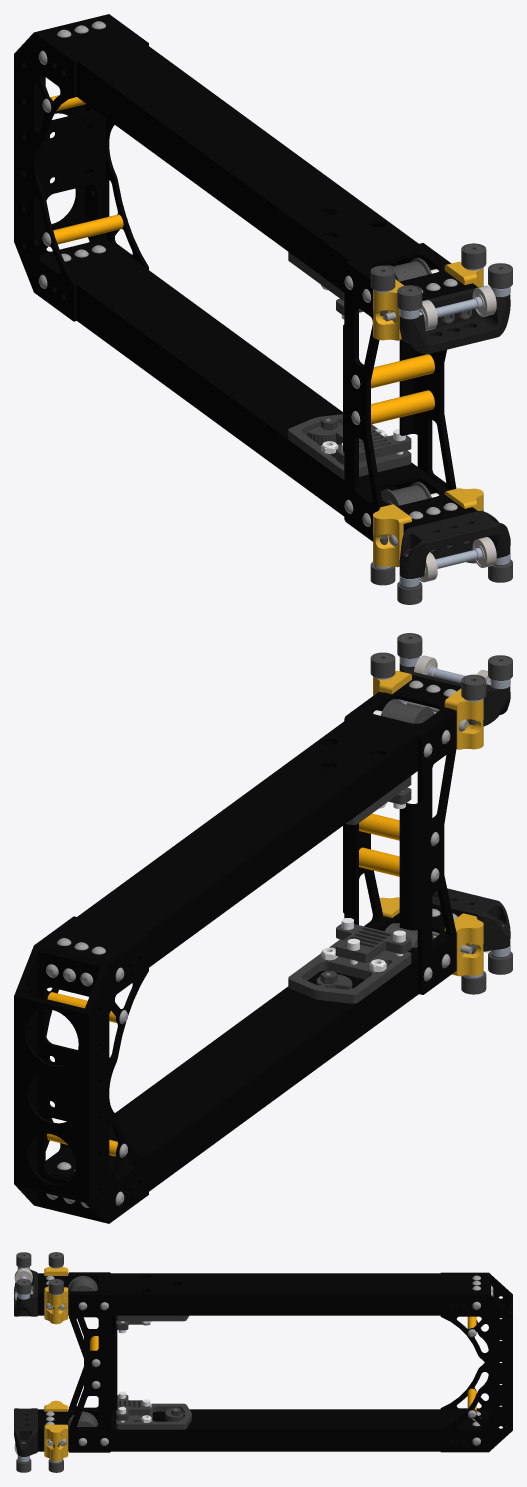
3 renders of one model, top to bottom at view 1: azimuth 30°, elevation 25°; view 2: azimuth 150°, elevation 25°; view 3: azimuth 270°, elevation 25°, orthographic. The views are drawn at different scales.
Parts seen in each view (by area): view 1: 5409-26-P-42003-MOVING-STAGE-TUBE-revB v5:2, 5409-26-P-42003-MOVING-STAGE-TUBE-revB v5:1, 5409-26-P-42001-END-EFFECTOR-PLATE v47:2, Elevator Bearing Block Body REV4(All Parts, Long Spacers) (3 (×2), 5409-26-P-42002-END-EFFECTOR-BAR v37:1, 5409-26-P-42006-CENTER-PLATE v51:2, 5409-26-P-42006-CENTER-PLATE v51:1, 5409-26-P-42007-WCP-BEARING-BLOCK-PLATE:1 (×3), 5409-P-26-45000-TENSIONER-BACK-PLATE v3:1, 5409-26-P-42001-END-EFFECTOR-PLATE v47:1, 5409-26-P-42005-CLAMPING-STANCHION v4:1, 5409-26-P-42005-CLAMPING-STANCHION v4:2 (+3 smaller); view 2: 5409-26-P-42003-MOVING-STAGE-TUBE-revB v5:2, 5409-26-P-42003-MOVING-STAGE-TUBE-revB v5:1, 5409-26-P-42002-END-EFFECTOR-BAR v37:1, 5409-26-P-42001-END-EFFECTOR-PLATE v47:2, 5409-26-P-42006-CENTER-PLATE v51:2, 5409-P-26-45000-TENSIONER-BACK-PLATE v3:1, Elevator Bearing Block Body REV4(All Parts, Long Spacers) (3 (×2), 5409-26-P-42007-WCP-BEARING-BLOCK-PLATE:1 (×2), 5409-26-P-42006-CENTER-PLATE v51:1, 5409-P-26-45001-TENSIONER-GRILL v2:1, 5409-26-P-42001-END-EFFECTOR-PLATE v47:1, 5409-26-P-42005-CLAMPING-STANCHION v4:1 (+2 smaller); view 3: 5409-26-P-42003-MOVING-STAGE-TUBE-revB v5:2, 5409-26-P-42003-MOVING-STAGE-TUBE-revB v5:1, 5409-26-P-42001-END-EFFECTOR-PLATE v47:1, 5409-26-P-42006-CENTER-PLATE v51:1, Elevator Bearing Block Body REV4(All Parts, Long Spacers) (3 (×2), 5409-P-26-45000-TENSIONER-BACK-PLATE v3:1 (×2), 5409-26-P-42007-WCP-BEARING-BLOCK-PLATE:1 (×2), 5409-26-P-42006-CENTER-PLATE v51:2, 5409-26-P-42001-END-EFFECTOR-PLATE v47:2, idler 18t no teeth v1:1 (×2), 5409-26-P-42002-END-EFFECTOR-BAR v37:1, 5409-P-26-45001-TENSIONER-GRILL v2:1.
Boxes of the visible parts, bbox=[...] form: 5409-26-P-42003-MOVING-STAGE-TUBE-revB v5:2: bbox=[37, 15, 477, 300]; 5409-26-P-42003-MOVING-STAGE-TUBE-revB v5:1: bbox=[42, 239, 477, 532]; 5409-26-P-42001-END-EFFECTOR-PLATE v47:2: bbox=[14, 31, 76, 321]; Elevator Bearing Block Body REV4(All Parts, Long Spacers) (3 (×2): bbox=[399, 286, 510, 578]; 5409-26-P-42002-END-EFFECTOR-BAR v37:1: bbox=[25, 63, 105, 253]; 5409-26-P-42006-CENTER-PLATE v51:2: bbox=[343, 260, 382, 541]; 5409-26-P-42006-CENTER-PLATE v51:1: bbox=[399, 243, 456, 490]; 5409-26-P-42007-WCP-BEARING-BLOCK-PLATE:1 (×3): bbox=[373, 279, 483, 567]; 5409-P-26-45000-TENSIONER-BACK-PLATE v3:1: bbox=[288, 414, 411, 479]; 5409-26-P-42001-END-EFFECTOR-PLATE v47:1: bbox=[94, 14, 148, 269]; 5409-26-P-42005-CLAMPING-STANCHION v4:1: bbox=[371, 390, 434, 424]; 5409-26-P-42005-CLAMPING-STANCHION v4:2: bbox=[371, 354, 434, 388]; 5409-26-P-42003-MOVING-STAGE-TUBE-revB v5:2: bbox=[37, 675, 461, 968]; 5409-26-P-42003-MOVING-STAGE-TUBE-revB v5:1: bbox=[45, 904, 477, 1192]; 5409-26-P-42002-END-EFFECTOR-BAR v37:1: bbox=[17, 946, 105, 1222]; 5409-26-P-42001-END-EFFECTOR-PLATE v47:2: bbox=[86, 934, 148, 1223]; 5409-26-P-42006-CENTER-PLATE v51:2: bbox=[399, 709, 456, 994]; 5409-P-26-45000-TENSIONER-BACK-PLATE v3:1: bbox=[288, 939, 411, 1003]; Elevator Bearing Block Body REV4(All Parts, Long Spacers) (3 (×2): bbox=[399, 663, 510, 951]; 5409-26-P-42007-WCP-BEARING-BLOCK-PLATE:1 (×2): bbox=[444, 688, 483, 976]; 5409-26-P-42006-CENTER-PLATE v51:1: bbox=[343, 691, 383, 927]; 5409-P-26-45001-TENSIONER-GRILL v2:1: bbox=[335, 924, 411, 962]; 5409-26-P-42001-END-EFFECTOR-PLATE v47:1: bbox=[14, 916, 76, 1206]; 5409-26-P-42005-CLAMPING-STANCHION v4:1: bbox=[359, 847, 399, 876]; 5409-26-P-42003-MOVING-STAGE-TUBE-revB v5:2: bbox=[38, 1273, 488, 1315]; 5409-26-P-42003-MOVING-STAGE-TUBE-revB v5:1: bbox=[38, 1409, 488, 1451]; 5409-26-P-42001-END-EFFECTOR-PLATE v47:1: bbox=[440, 1294, 512, 1452]; 5409-26-P-42006-CENTER-PLATE v51:1: bbox=[69, 1294, 117, 1452]; Elevator Bearing Block Body REV4(All Parts, Long Spacers) (3 (×2): bbox=[14, 1269, 37, 1456]; 5409-P-26-45000-TENSIONER-BACK-PLATE v3:1 (×2): bbox=[116, 1315, 191, 1429]; 5409-26-P-42007-WCP-BEARING-BLOCK-PLATE:1 (×2): bbox=[44, 1287, 68, 1461]; 5409-26-P-42006-CENTER-PLATE v51:2: bbox=[69, 1272, 117, 1409]; 5409-26-P-42001-END-EFFECTOR-PLATE v47:2: bbox=[440, 1272, 512, 1409]; idler 18t no teeth v1:1 (×2): bbox=[68, 1276, 97, 1426]; 5409-26-P-42002-END-EFFECTOR-BAR v37:1: bbox=[489, 1274, 512, 1429]; 5409-P-26-45001-TENSIONER-GRILL v2:1: bbox=[116, 1395, 150, 1420].
Size of the model in its own units: 0.0827 by 0.2177 by 0.5245.
